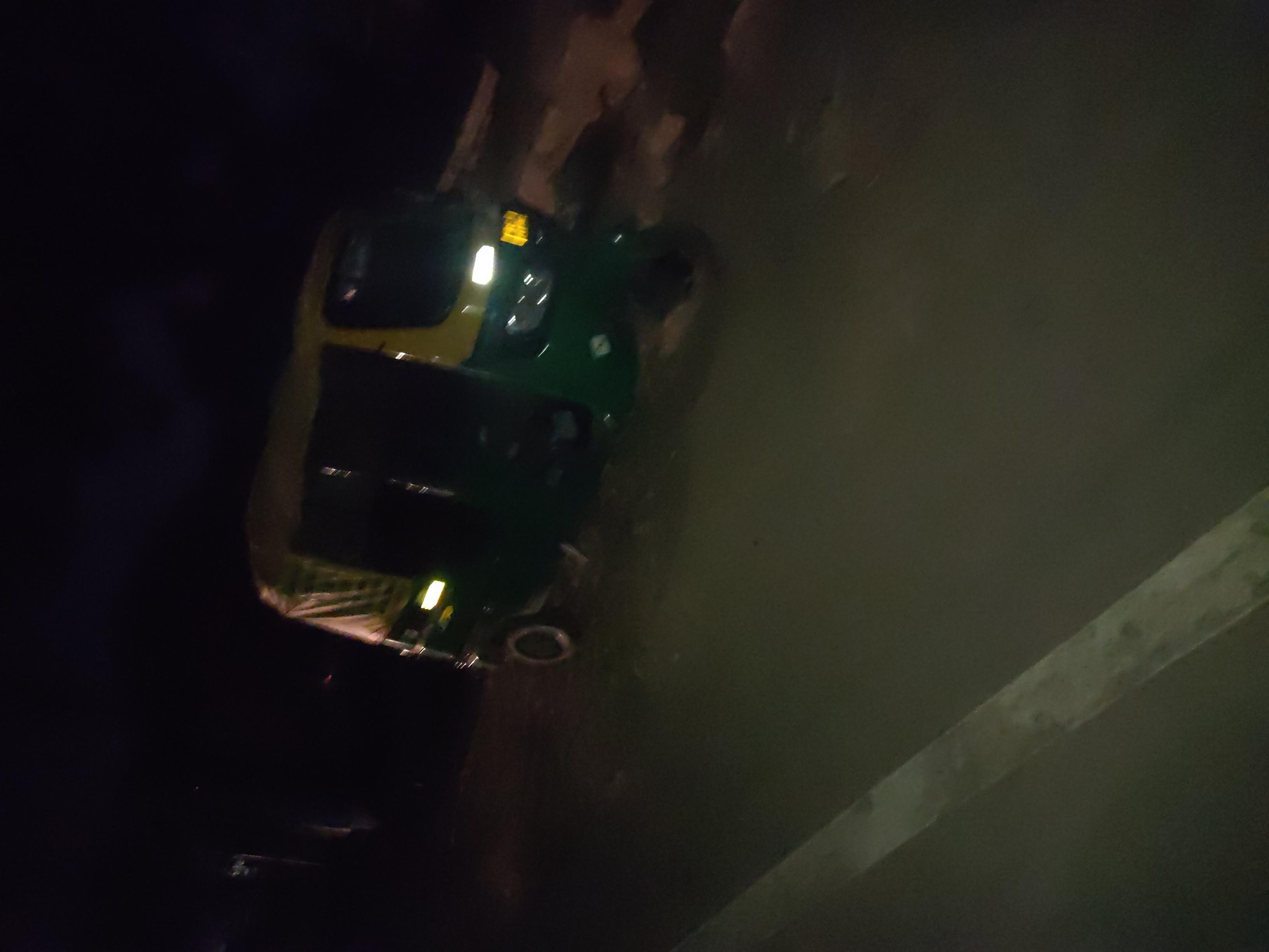Auto: (345, 174, 1052, 547)
